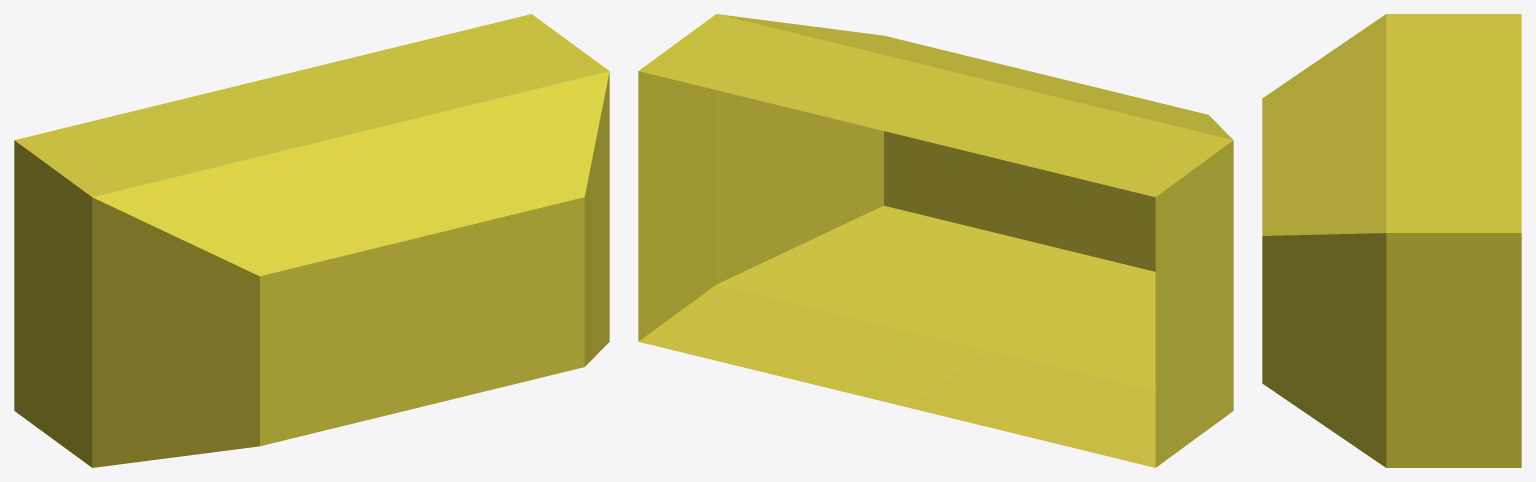
The model's file is BlockYellow.fbx.
The picture shows the model from 3 angles, left to right: view 1: azimuth 30°, elevation 25°; view 2: azimuth 150°, elevation 25°; view 3: azimuth 270°, elevation 25°; orthographic projection. The views are drawn at different scales.
Parts seen in each view (by area): view 1: BlockYellow; view 2: BlockYellow; view 3: BlockYellow.
Boxes of the visible parts, left/top/right/bottom form: BlockYellow: left=14, top=14, right=609, bottom=467; BlockYellow: left=638, top=14, right=1233, bottom=467; BlockYellow: left=1262, top=14, right=1521, bottom=467.
Bounding box in the file's own units: 108 × 54.18 × 54.18.
Materials: 1 (1 with a texture image).
